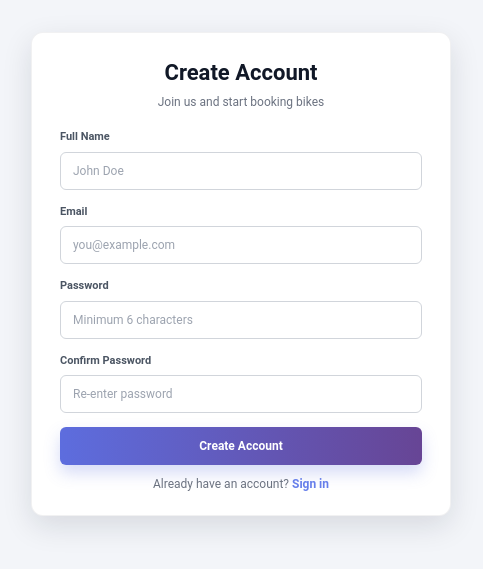
Test: SignUpPage › shows duplicate email error on email field when ApiError matches
This screenshot has width=483, height=569.
Type "TestUser0" into the field labelled "Full Name" at [241, 171], box [60,152,422,190]
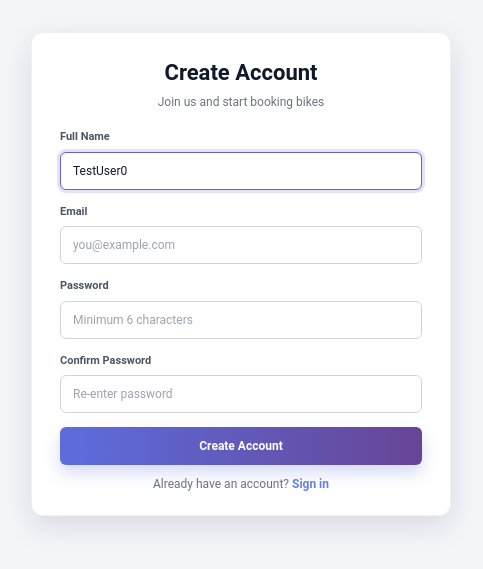
Type "TESTUSER0@TEST.COM" into the field labelled "Email" at [241, 245], box [60,226,422,264]
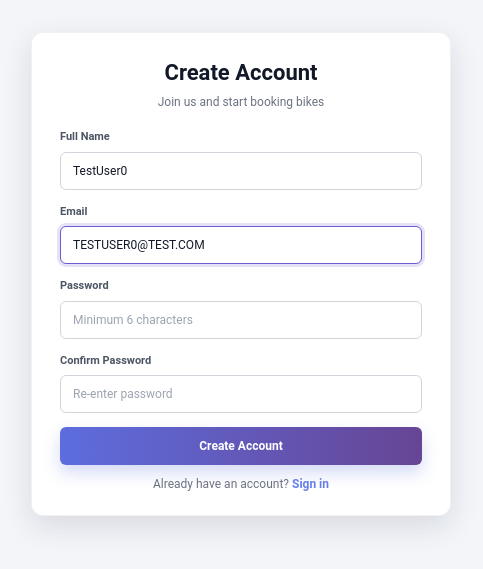
Type "password123" into the password field labelled "Password" at [241, 320], box [60,301,422,339]
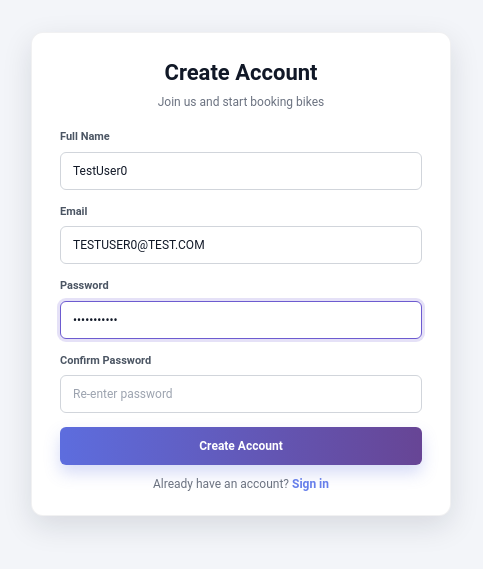
Type "password123" into the password field labelled "Confirm Password" at [241, 394], box [60,375,422,413]
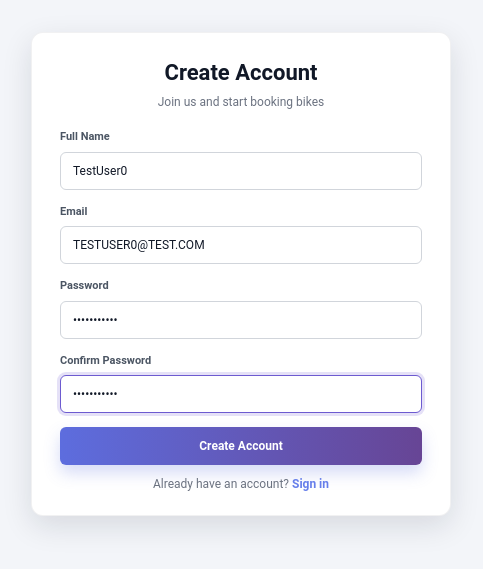
Click the button "Create Account" at [241, 446], box [60,427,422,465]
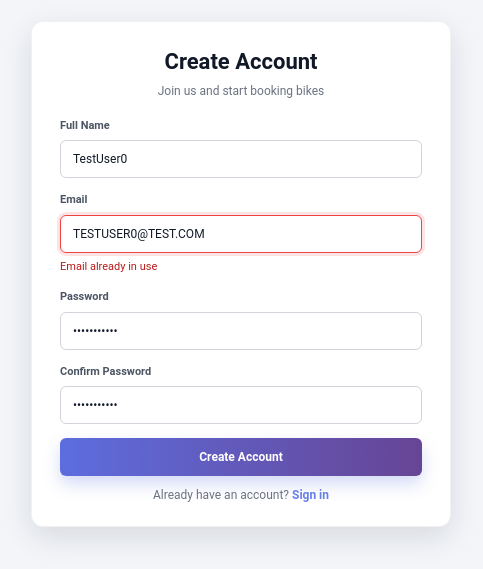
Result: the text "Email already in use" is shown at [60,260,157,273]
